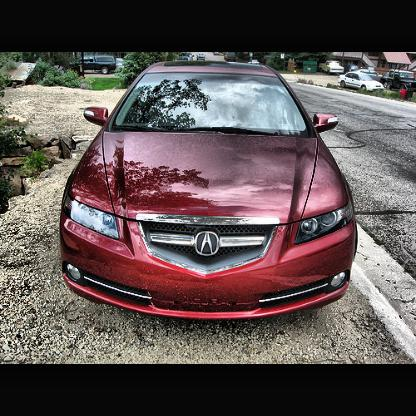Acura TL Type-S 2008: (58, 60, 360, 323)
